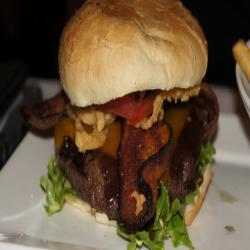burger: (43, 1, 232, 230)
